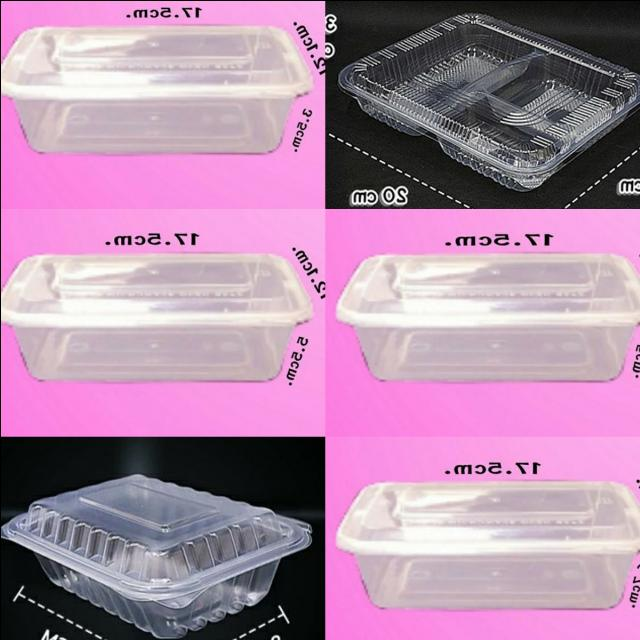plastik: (337, 12, 640, 190), (0, 474, 311, 637), (0, 252, 312, 381), (0, 26, 311, 152), (336, 252, 640, 380), (336, 481, 640, 608)
